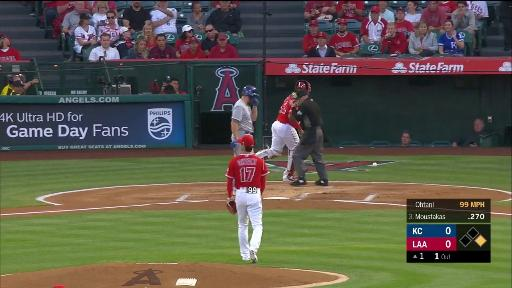pitcher: (226, 135, 270, 262)
